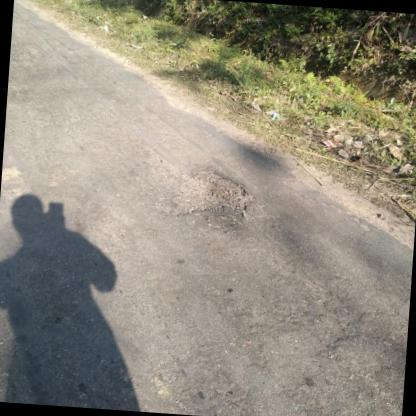pothole: (173, 164, 257, 224)
